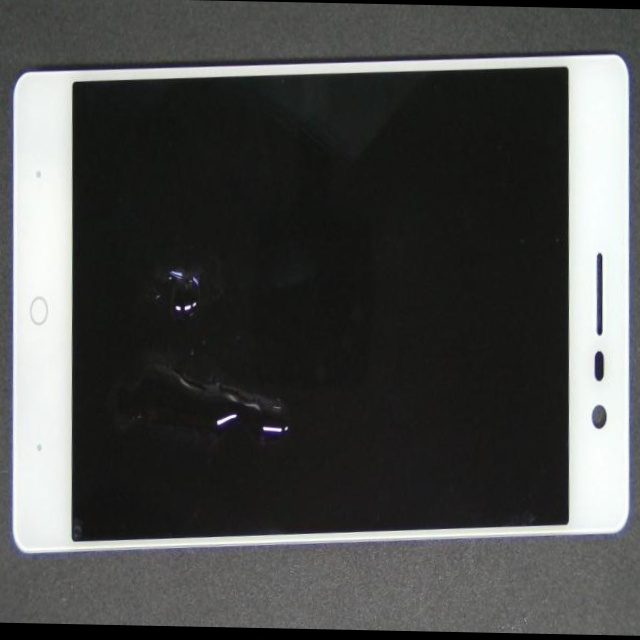oil: (81, 240, 411, 631), (93, 135, 296, 410)
